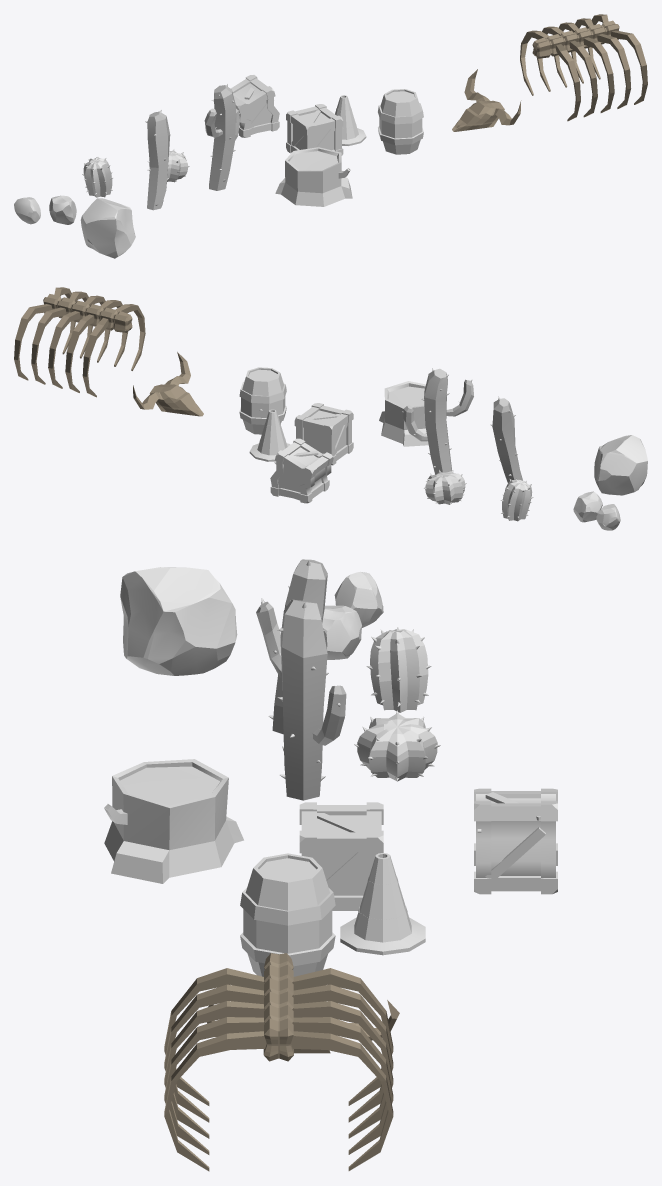
File: props.fbx
3 renders of one model, top to bottom at view 1: azimuth 30°, elevation 25°; view 2: azimuth 150°, elevation 25°; view 3: azimuth 270°, elevation 25°, orthographic. The views are drawn at different scales.
Parts seen in each view (by area): view 1: rib bone, Cylinder006, barrel, blouder, crate, Cylinder002, damaged crate, Cylinder005, cow skull, Cylinder007, cone, rock 1 (+2 smaller); view 2: rib bone, damaged crate, blouder, barrel, Cylinder006, crate, Cylinder002, cow skull, Cylinder005, cone, Cylinder008, Cylinder007 (+4 smaller); view 3: rib bone, Cylinder006, blouder, barrel, Cylinder002, damaged crate, crate, cone, Cylinder007, Cylinder008, Cylinder005, rock 1 (+3 smaller).
Part boxes in pixels (box(x1,y1,x2,y2)): rib bone: box(520, 14, 647, 121); Cylinder006: box(275, 147, 352, 206); barrel: box(378, 89, 423, 154); blouder: box(80, 198, 135, 258); crate: box(286, 104, 343, 155); Cylinder002: box(209, 85, 235, 190); damaged crate: box(231, 75, 279, 137); Cylinder005: box(147, 111, 170, 210); cow skull: box(452, 69, 521, 131); Cylinder007: box(83, 157, 112, 197); cone: box(335, 95, 366, 145); rock 1: box(49, 195, 76, 224); rib bone: box(14, 287, 145, 397); damaged crate: box(270, 438, 333, 503); blouder: box(594, 435, 647, 495); barrel: box(239, 367, 286, 434); Cylinder006: box(379, 381, 428, 446); crate: box(294, 403, 353, 465); Cylinder002: box(424, 368, 452, 474); cow skull: box(133, 352, 203, 416); Cylinder005: box(492, 398, 522, 482); cone: box(249, 409, 290, 461); Cylinder008: box(425, 471, 465, 504); Cylinder007: box(502, 479, 532, 521); rib bone: box(164, 953, 393, 1171); Cylinder006: box(104, 759, 243, 883); blouder: box(120, 567, 237, 675); barrel: box(240, 853, 335, 976); Cylinder002: box(280, 599, 327, 800); damaged crate: box(474, 788, 557, 894); crate: box(299, 802, 383, 910); cone: box(340, 853, 425, 955); Cylinder007: box(370, 629, 428, 712); Cylinder008: box(357, 713, 437, 781); Cylinder005: box(272, 559, 327, 734); rock 1: box(322, 605, 361, 659).
Size of the model in its own units: 1055 by 184 by 355.
